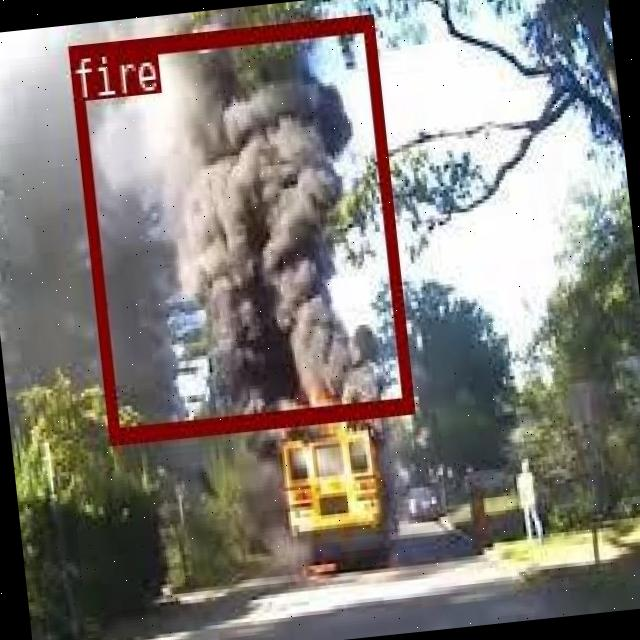fire: (66, 13, 411, 442)
